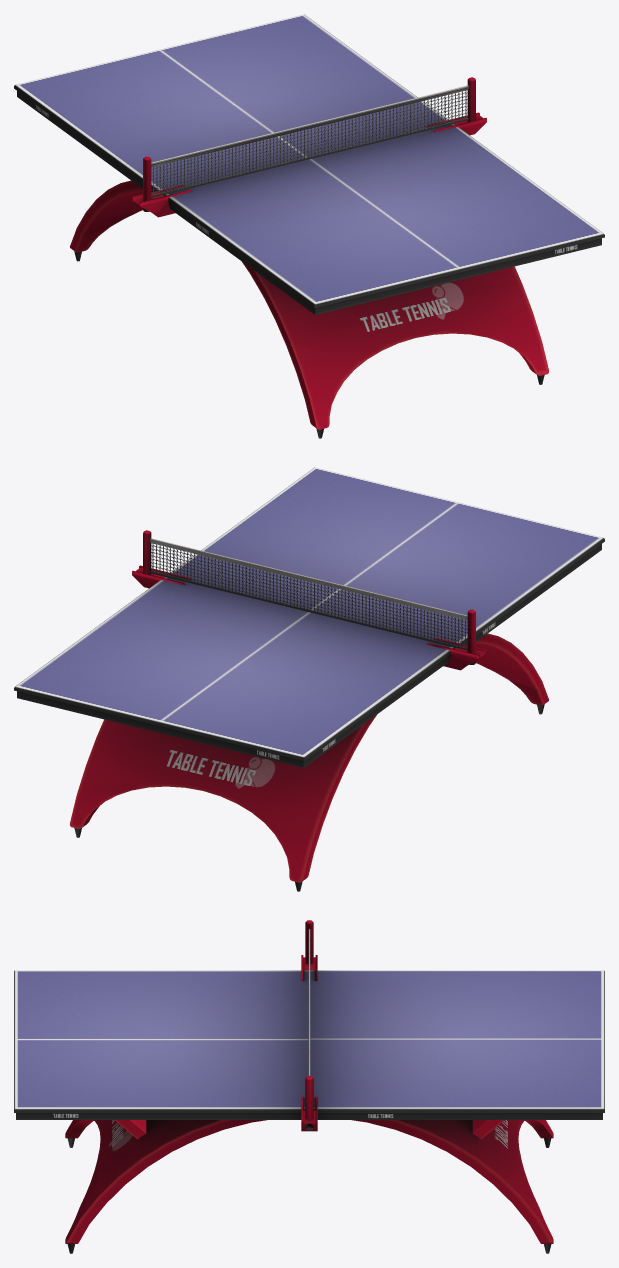
Rendered from Table_1.fbx.
3 renders of one model, top to bottom at view 1: azimuth 30°, elevation 25°; view 2: azimuth 150°, elevation 25°; view 3: azimuth 270°, elevation 25°, orthographic.
Visible parts, largest first — view 1: Table_1; view 2: Table_1; view 3: Table_1.
Boxes of the visible parts, x1,y1,x2,y2 form: Table_1: (14, 14, 604, 438); Table_1: (14, 467, 604, 891); Table_1: (14, 920, 604, 1253).
Bounding box in the file's own units: 182 × 103 × 273.
